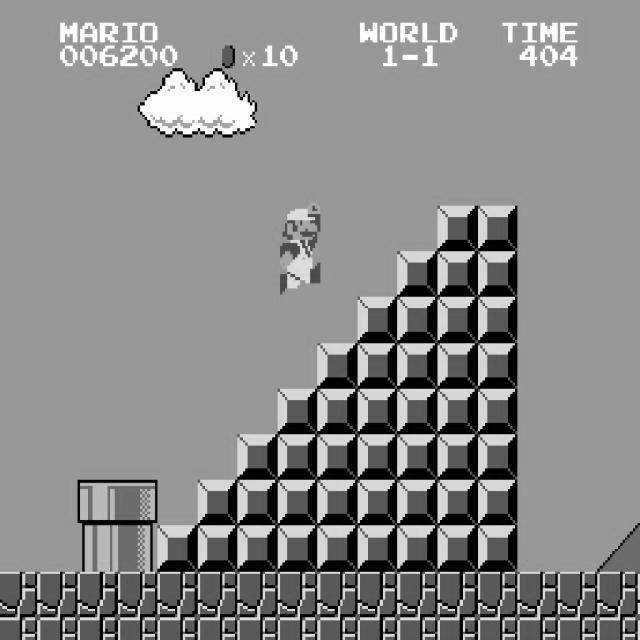14- pipe: (77, 526, 118, 572), (117, 526, 158, 572)
15- pipe_head: (77, 480, 118, 526), (117, 480, 158, 526)
17- undestructible_block: (37, 572, 78, 618), (77, 572, 118, 618), (117, 572, 158, 618), (157, 572, 198, 618), (197, 572, 238, 618), (237, 572, 278, 618), (277, 572, 318, 618), (317, 572, 358, 618), (357, 572, 398, 618), (397, 572, 438, 618), (437, 572, 478, 618), (477, 572, 518, 618), (517, 572, 558, 618), (557, 572, 598, 618), (597, 572, 638, 618), (0, 572, 37, 618), (37, 617, 78, 640), (77, 617, 118, 640), (117, 617, 158, 640), (157, 617, 198, 640), (197, 617, 238, 640), (237, 617, 278, 640), (277, 617, 318, 640), (317, 617, 358, 640), (357, 617, 398, 640), (397, 617, 438, 640), (437, 617, 478, 640), (477, 617, 518, 640), (517, 617, 558, 640), (557, 617, 598, 640), (597, 617, 638, 640), (0, 617, 37, 640), (637, 571, 640, 617), (637, 617, 640, 639)
4- fire_mario: (277, 200, 320, 294)
9- hard_block: (157, 526, 198, 572), (197, 480, 238, 526), (197, 526, 238, 572), (237, 434, 278, 480), (237, 480, 278, 526), (237, 526, 278, 572), (277, 388, 318, 434), (277, 434, 318, 480), (277, 480, 318, 526), (277, 526, 318, 572), (317, 388, 358, 434), (317, 434, 358, 480), (317, 480, 358, 526), (317, 526, 358, 572), (357, 297, 398, 343), (357, 388, 398, 434), (357, 434, 398, 480), (357, 480, 398, 526), (357, 526, 398, 572), (397, 252, 438, 298), (397, 297, 438, 343), (397, 388, 438, 434), (397, 434, 438, 480), (397, 480, 438, 526), (397, 526, 438, 572), (437, 252, 478, 298), (437, 297, 478, 343), (437, 388, 478, 434), (437, 434, 478, 480), (437, 480, 478, 526), (437, 526, 478, 572), (477, 252, 518, 298), (477, 297, 518, 343), (477, 388, 518, 434), (477, 434, 518, 480), (477, 480, 518, 526), (477, 526, 518, 572), (317, 343, 358, 388), (357, 343, 398, 388), (397, 343, 438, 388), (437, 206, 478, 251), (437, 343, 478, 388), (477, 206, 518, 251), (477, 343, 518, 388)
